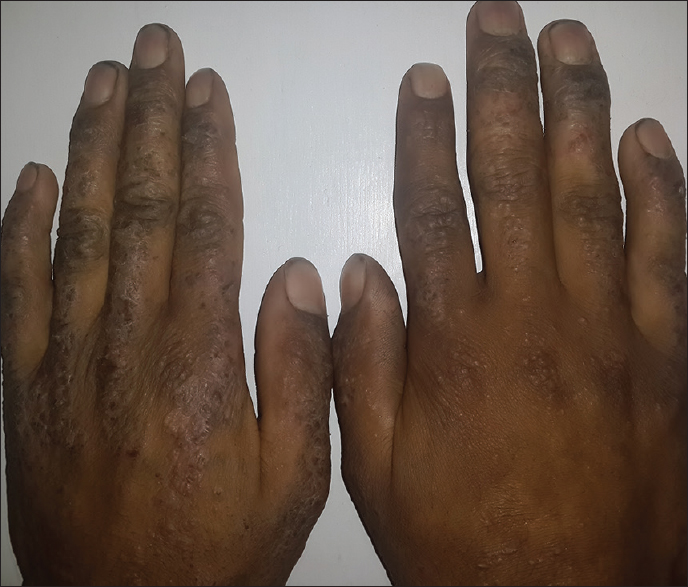Eczema: (16, 65, 319, 522), (399, 30, 688, 484)
